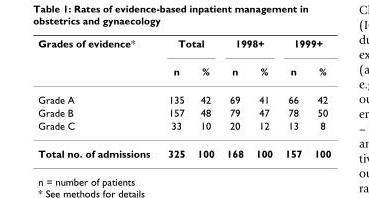table: (37, 36, 330, 159)
table column: (37, 36, 158, 159), (158, 36, 190, 159), (248, 36, 278, 159), (190, 36, 219, 159), (219, 36, 248, 159), (278, 36, 307, 159), (307, 36, 330, 159)
table column header: (37, 36, 330, 85)
table row: (37, 56, 330, 85), (37, 118, 330, 139), (37, 36, 330, 56), (37, 85, 330, 105), (37, 139, 330, 159), (37, 105, 330, 118)
table spanning cell: (37, 36, 158, 85), (158, 36, 219, 56), (219, 36, 278, 56), (278, 36, 330, 56)
